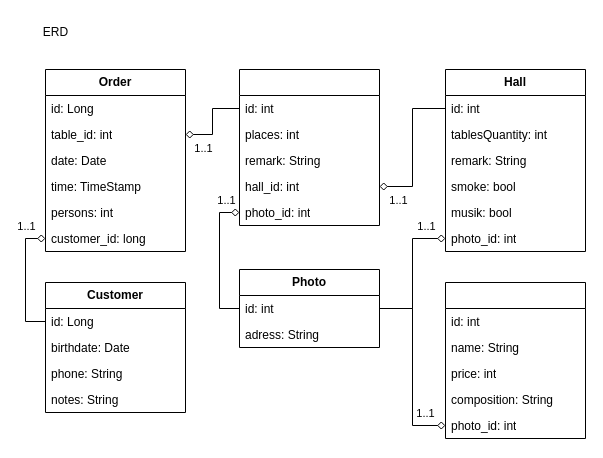
The diagram is 603 pixels wide and 458 high, and some of its shapes have lost their labels. Here are the shapes that lost their labels. From the top down, the box of each, then its label:
(238, 68, 380, 226): Table
(444, 282, 586, 438): Dishes
